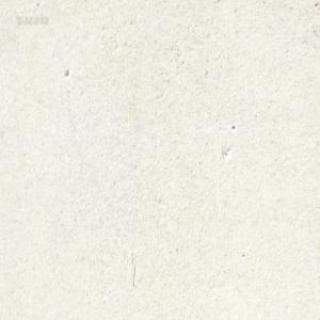Wrenchtrack_idkeyframe: (133, 0, 139, 4)
